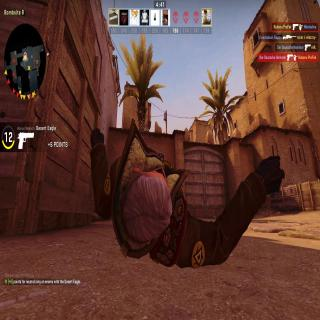CT-Head: (160, 153, 164, 160)
